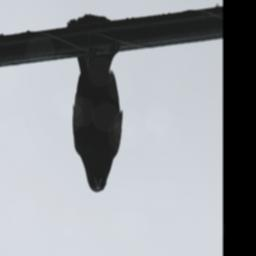Crow: (68, 12, 125, 193)
